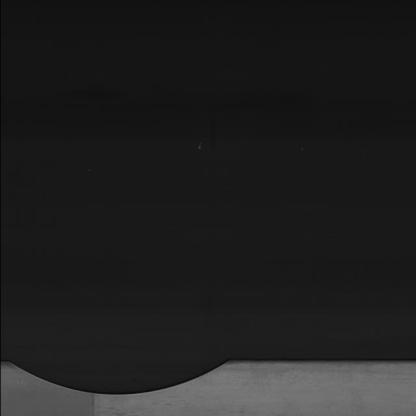crescent_gap: (0, 343, 242, 397)
welding_line: (88, 389, 99, 416)
